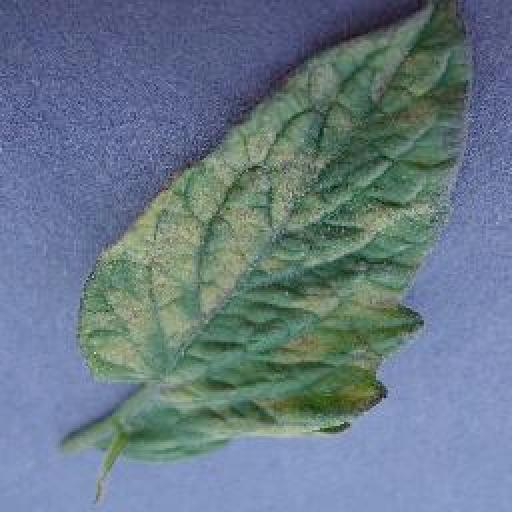disease_tomato: (76, 0, 472, 456)
